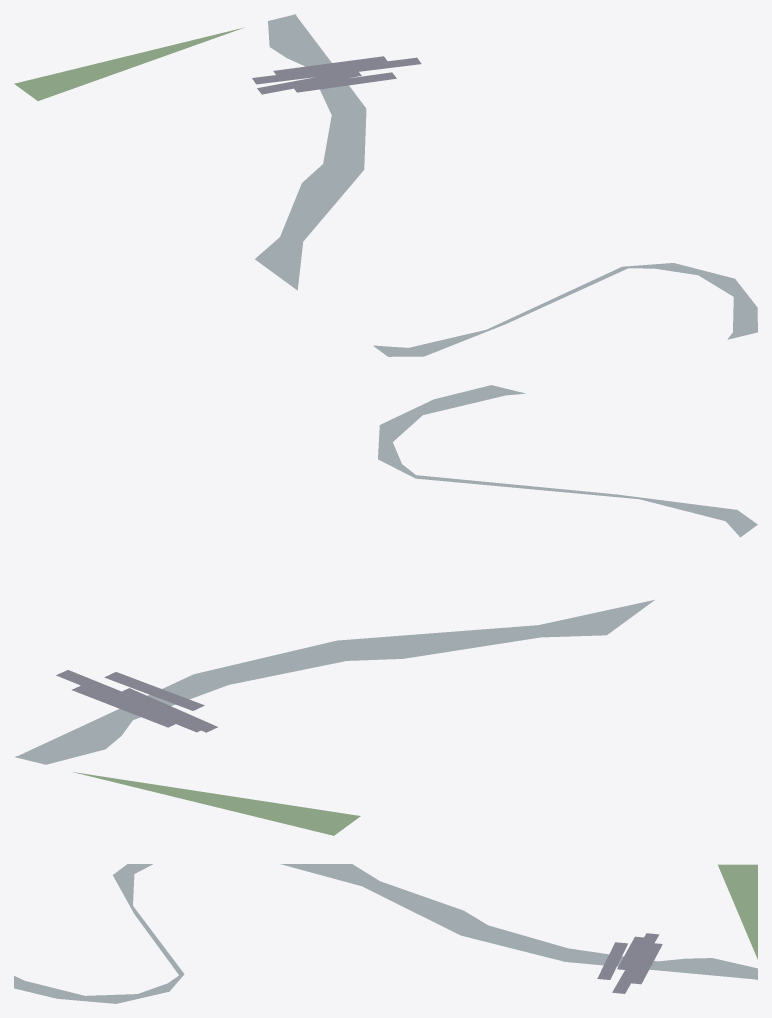
Rendered from 112_118_mid.glb.
3 views of the same model, one above another, from view 1: azimuth 30°, elevation 25°; view 2: azimuth 150°, elevation 25°; view 3: azimuth 270°, elevation 25° (orthographic). The views are drawn at different scales.
Size of the model in its own units: 223 by 3.02 by 500.
